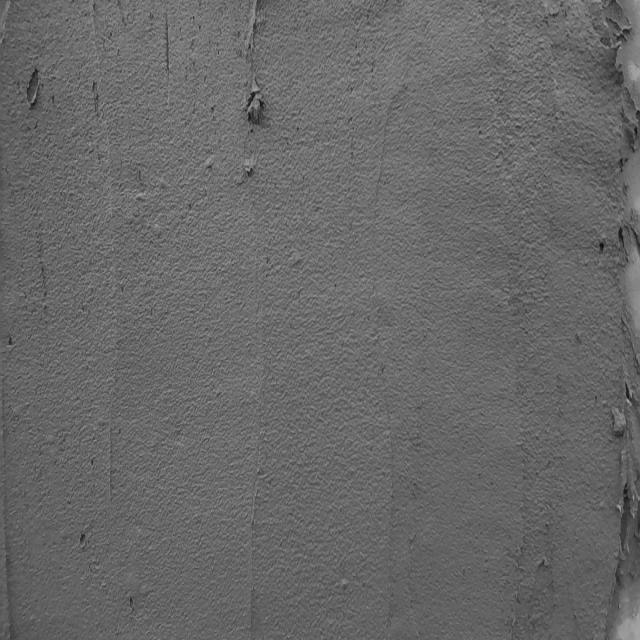trowels marks: (4, 428, 18, 638)
